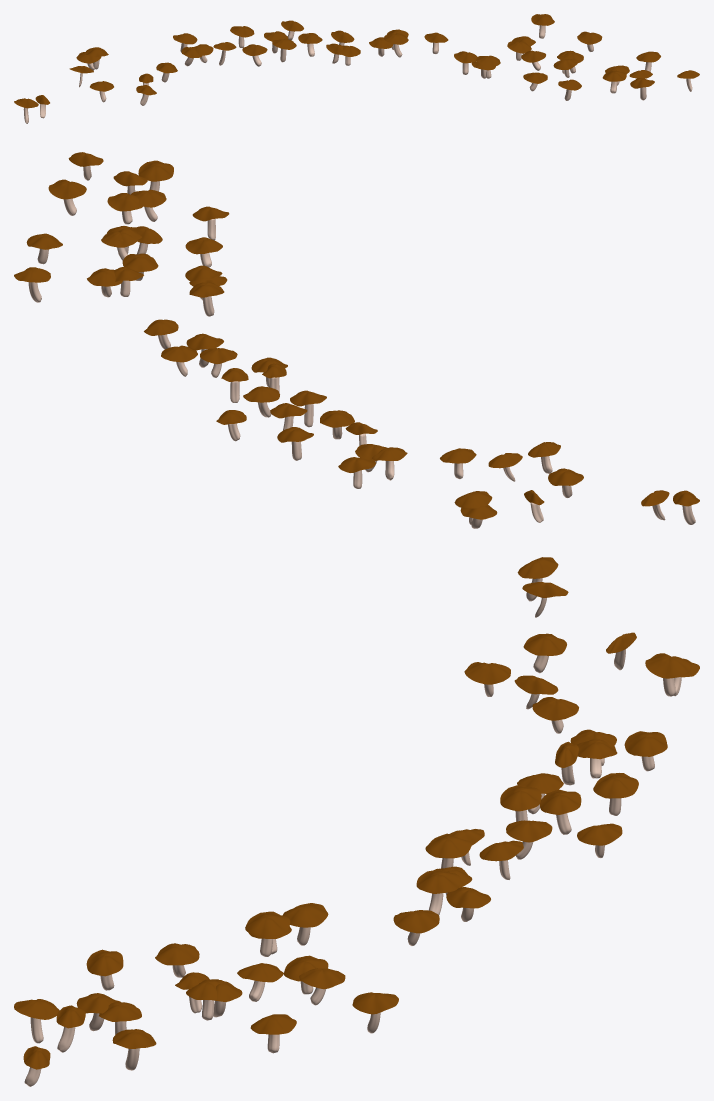
The model's file is Mushrooms.fbx.
The picture shows the model from 3 angles, top to bottom: view 1: azimuth 30°, elevation 25°; view 2: azimuth 150°, elevation 25°; view 3: azimuth 270°, elevation 25°; orthographic projection. The views are drawn at different scales.
Visible parts, largest first — view 1: Mushrooms; view 2: Mushrooms; view 3: Mushrooms.
Part boxes in pixels (x1,y1,x2,y2): Mushrooms: (14, 14, 699, 123); Mushrooms: (14, 152, 699, 528); Mushrooms: (14, 557, 699, 1086).
Size of the model in its own units: 23.99 by 0.9907 by 13.85.
